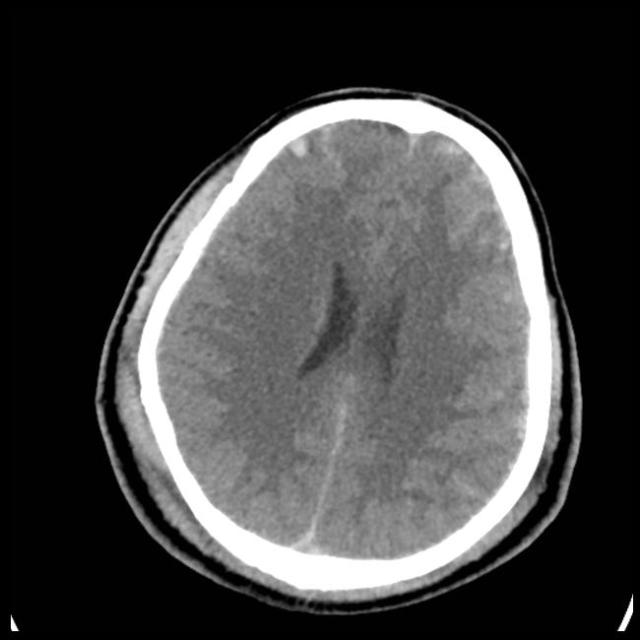lesion: (95, 87, 584, 612)
